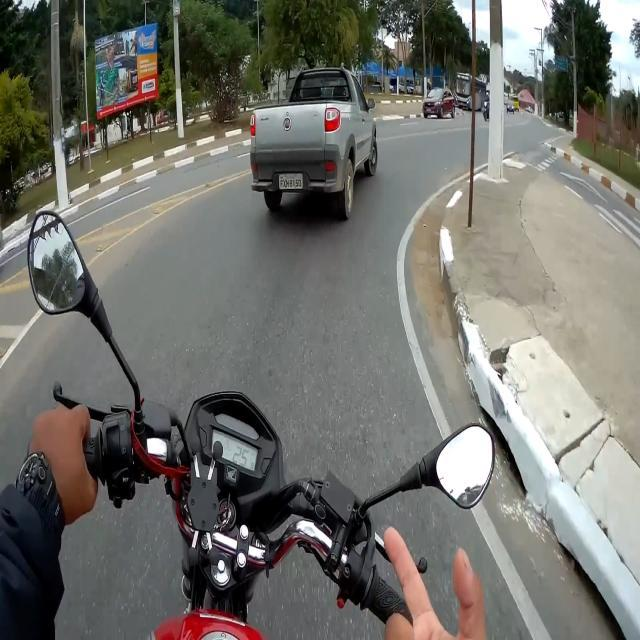Placa_mercosul_carro: (278, 173, 303, 189)
